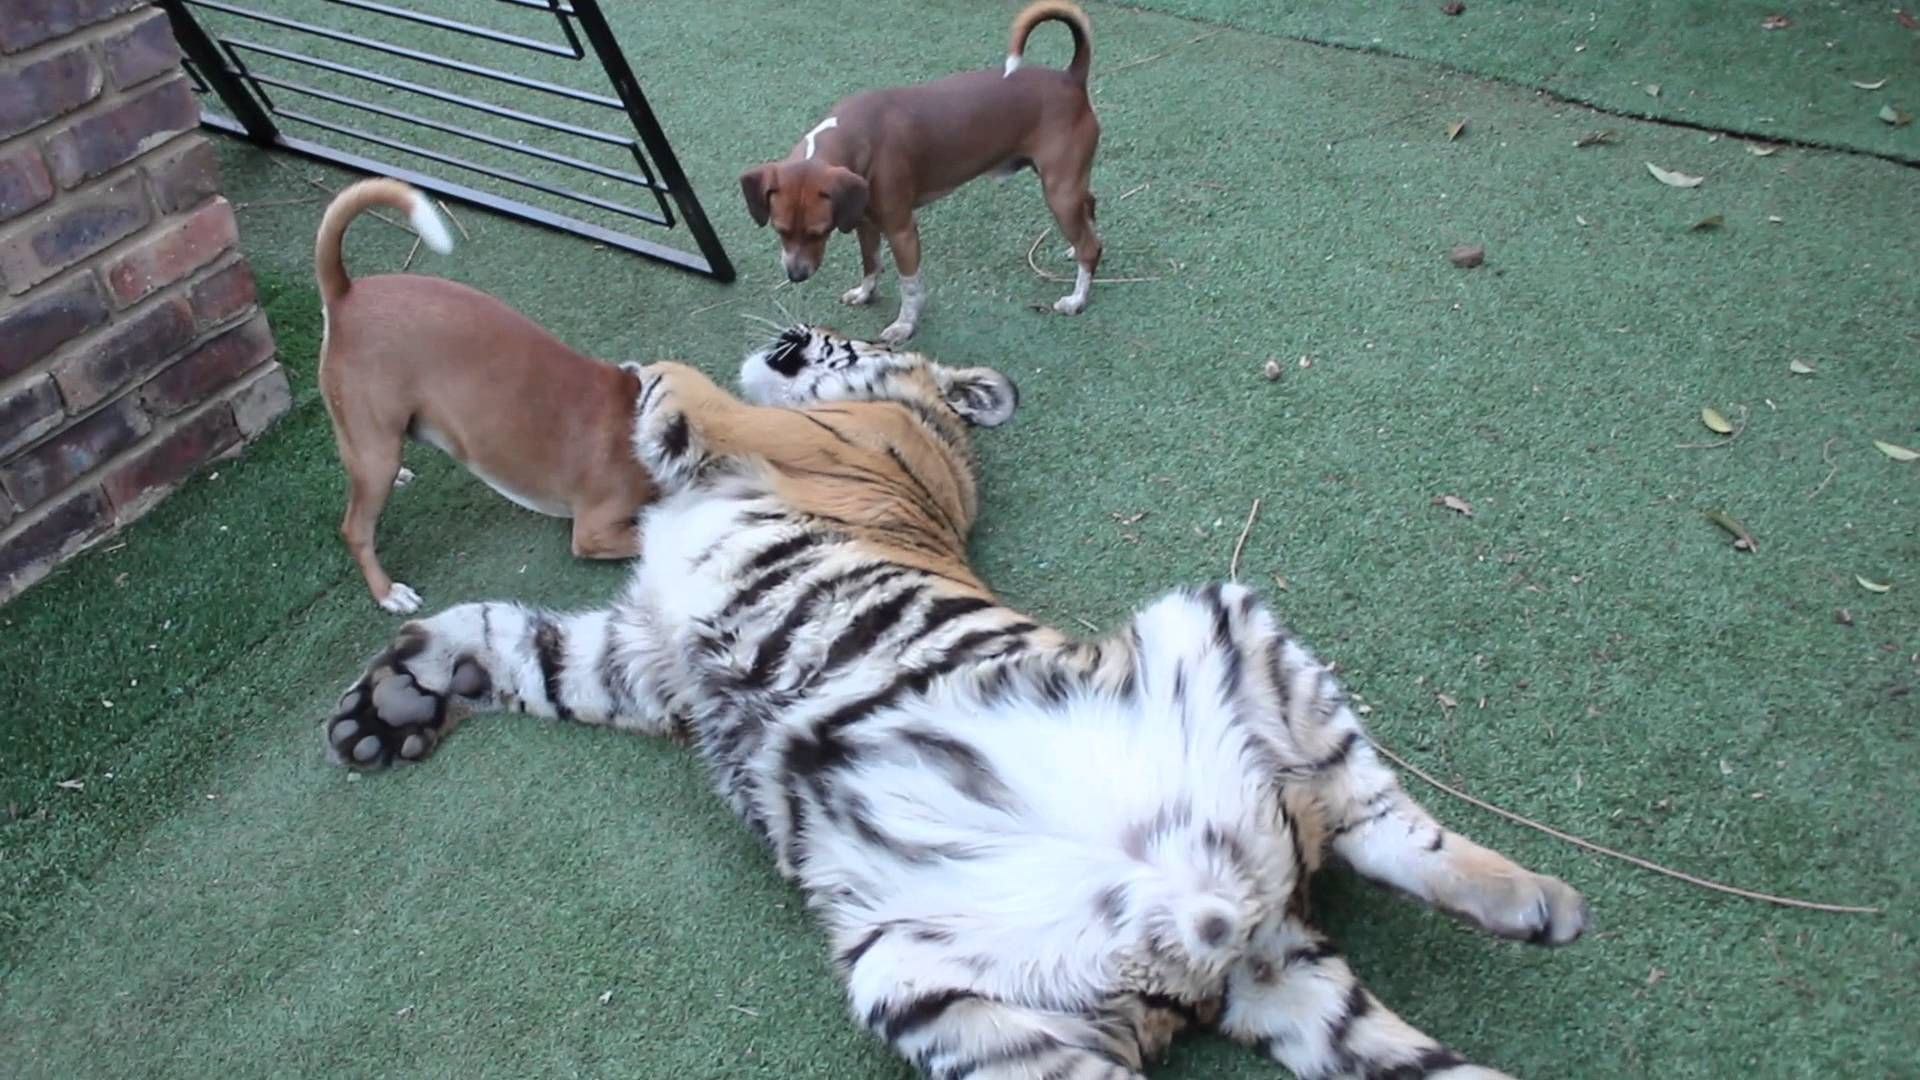dog: (284, 173, 673, 588), (738, 28, 1114, 301)
tiger: (535, 264, 1481, 1080)
